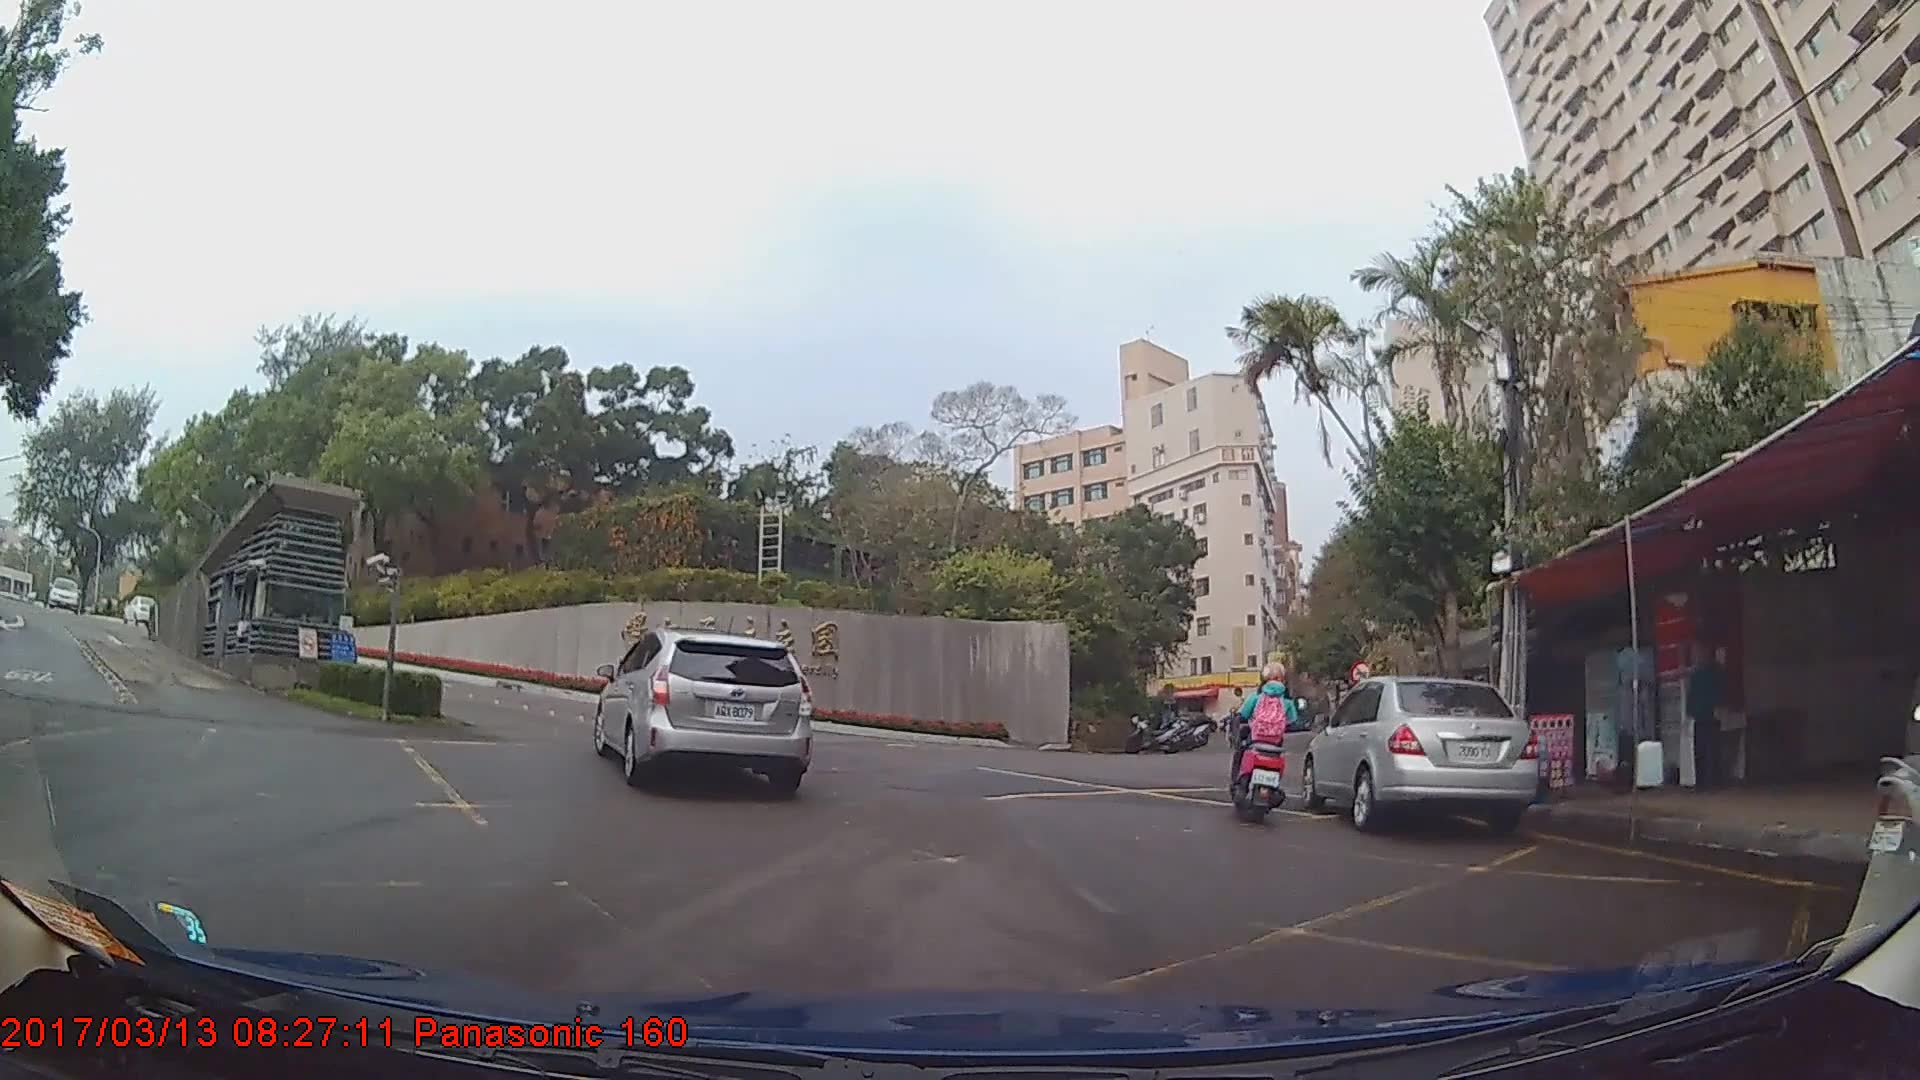pedestrian: (1684, 635, 1733, 787)
rider: (1228, 664, 1303, 834)
vehicle: (1303, 675, 1545, 832), (592, 629, 810, 794), (46, 574, 80, 612), (122, 595, 158, 625)
